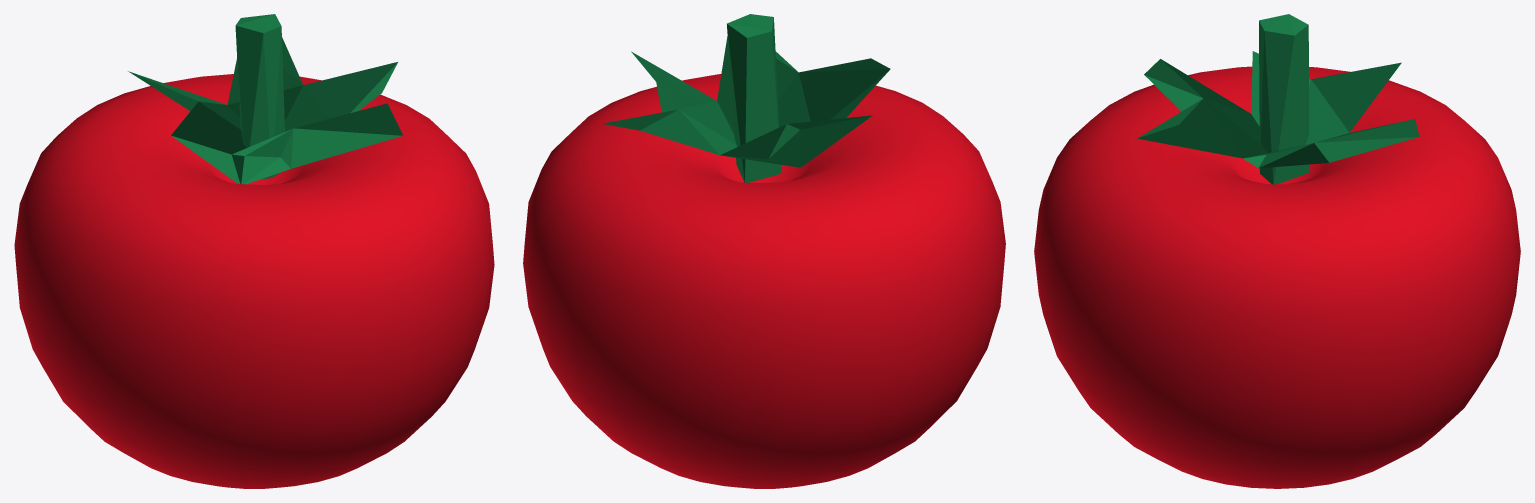
File: tomato2.FBX
3 views of the same model, side by side, from view 1: azimuth 30°, elevation 25°; view 2: azimuth 150°, elevation 25°; view 3: azimuth 270°, elevation 25° (orthographic).
Visible parts, largest first — view 1: Sphere005; view 2: Sphere005; view 3: Sphere005.
Boxes of the visible parts, x1,y1,x2,y2 form: Sphere005: [14, 14, 494, 488]; Sphere005: [523, 14, 1005, 488]; Sphere005: [1034, 14, 1520, 488].
Size of the model in its own units: 9.18 by 9.16 by 9.18.
